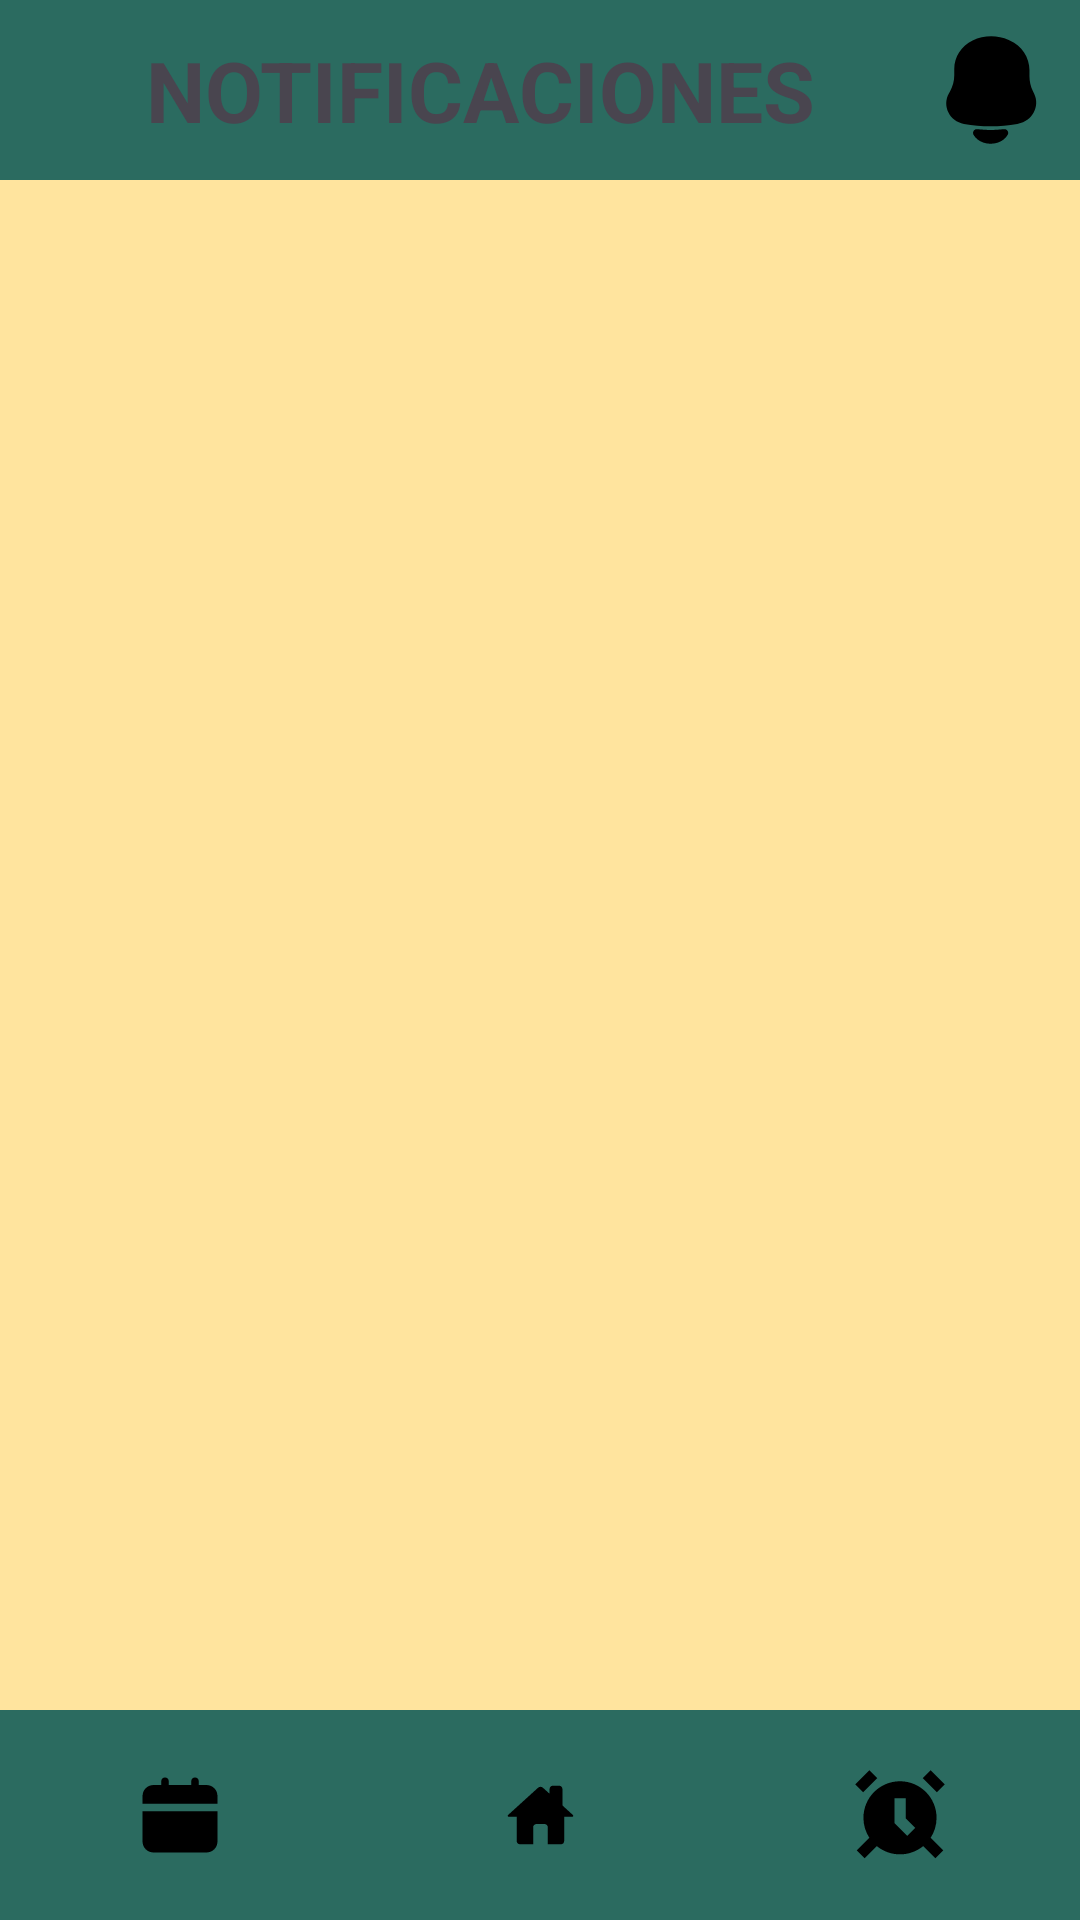

Icon bounding boxes for this 1080x1920 phone screenshot, format [x1, y1, x2, y2]:
Ir al calendario: [142, 1777, 218, 1853]
Ir al inicio: [508, 1785, 573, 1845]
